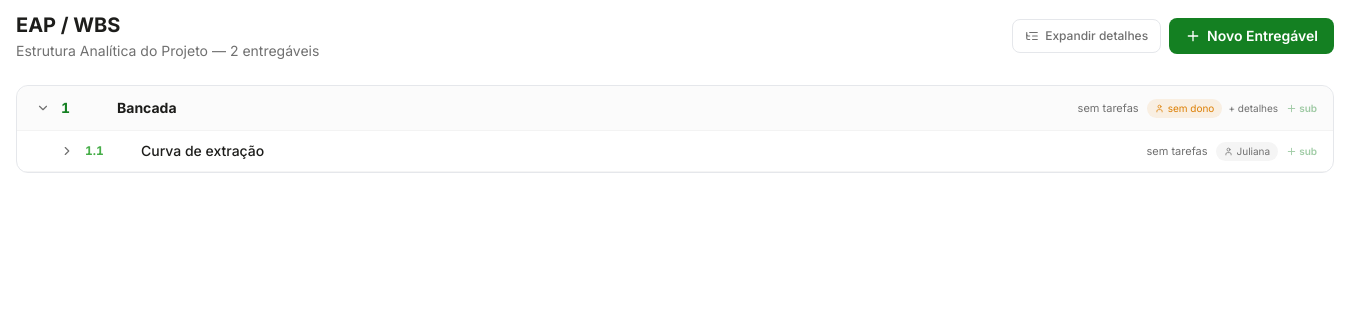
Test case: WbsClient — detalhes do pacote de trabalho › should show owner, ready criteria and outputs when the work package is expanded
Click the button "Curva de extração" at (203, 150), box [141,141,1138,161]
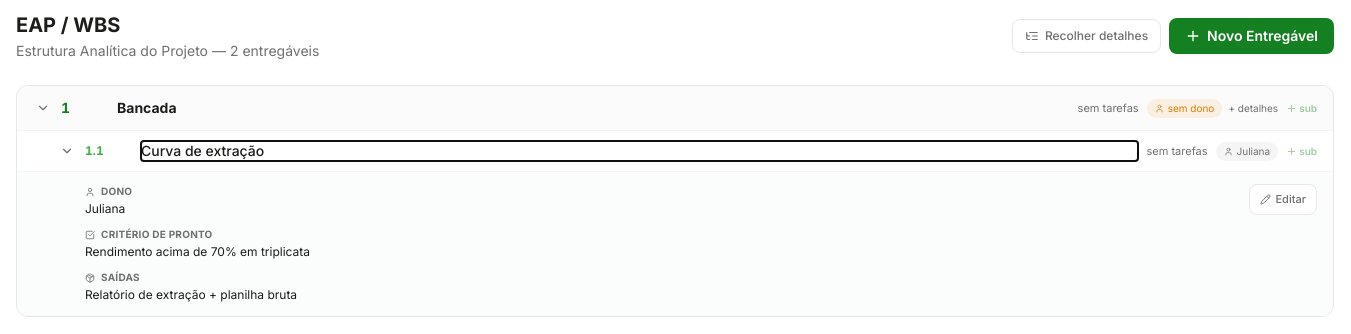
Expected: the text "Rendimento acima de 70% em triplicata" is shown, [85,244,310,259]
Expected: the text "Relatório de extração + planilha bruta" is shown, [85,287,297,302]
Expected: the text "Critério de pronto" is shown, [85,228,213,240]
